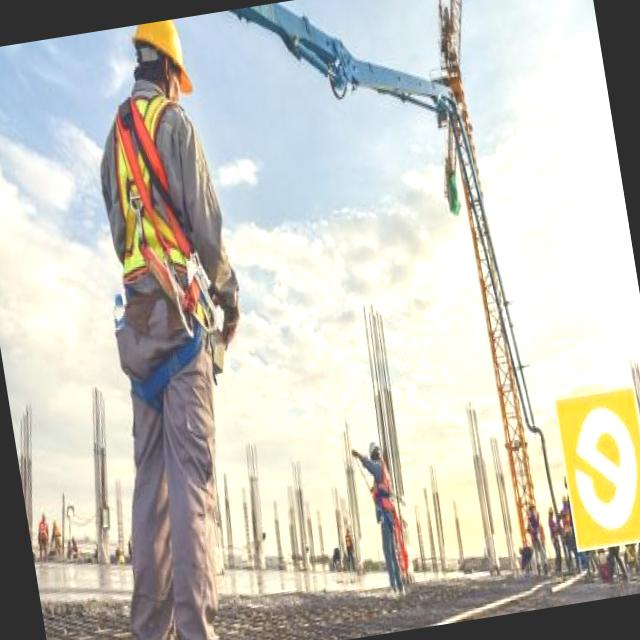helmet: (128, 20, 197, 106)
vest: (94, 89, 210, 293)
